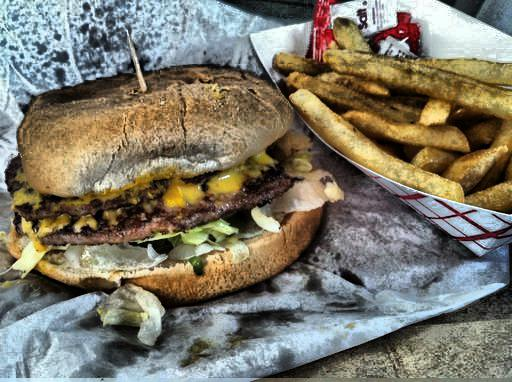burger: (16, 59, 330, 298)
